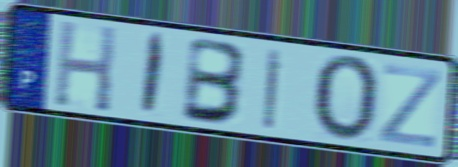B: (180, 34, 250, 127)
H: (51, 17, 119, 116)
I: (138, 30, 169, 119), (261, 45, 285, 132)
O: (312, 52, 383, 146)
Z: (376, 61, 444, 151)
